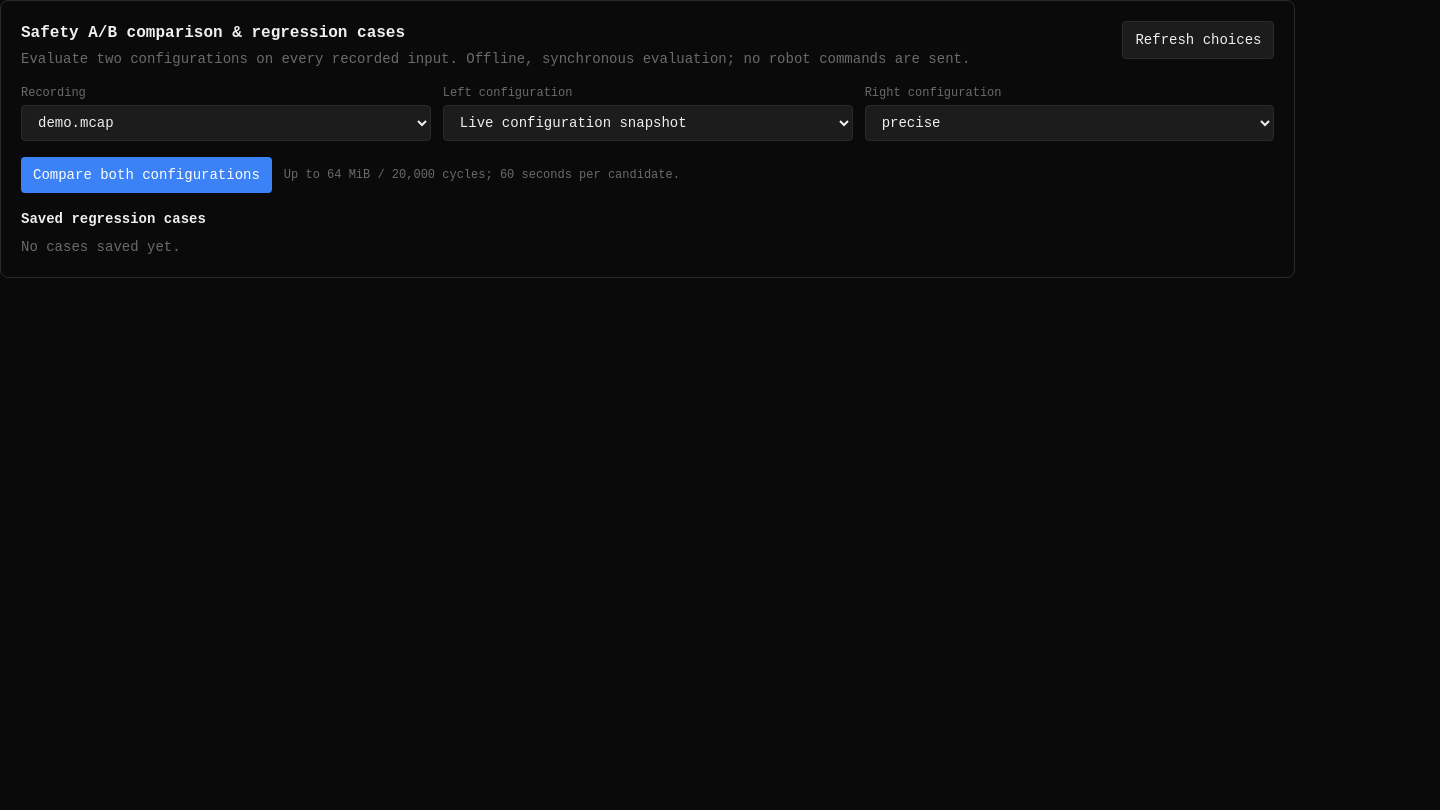
Test: disables saving ranges that include missing or unevaluated cycles
Step 1. Click the button "Compare both configurations" → click(146, 175), box [21,157,272,193]
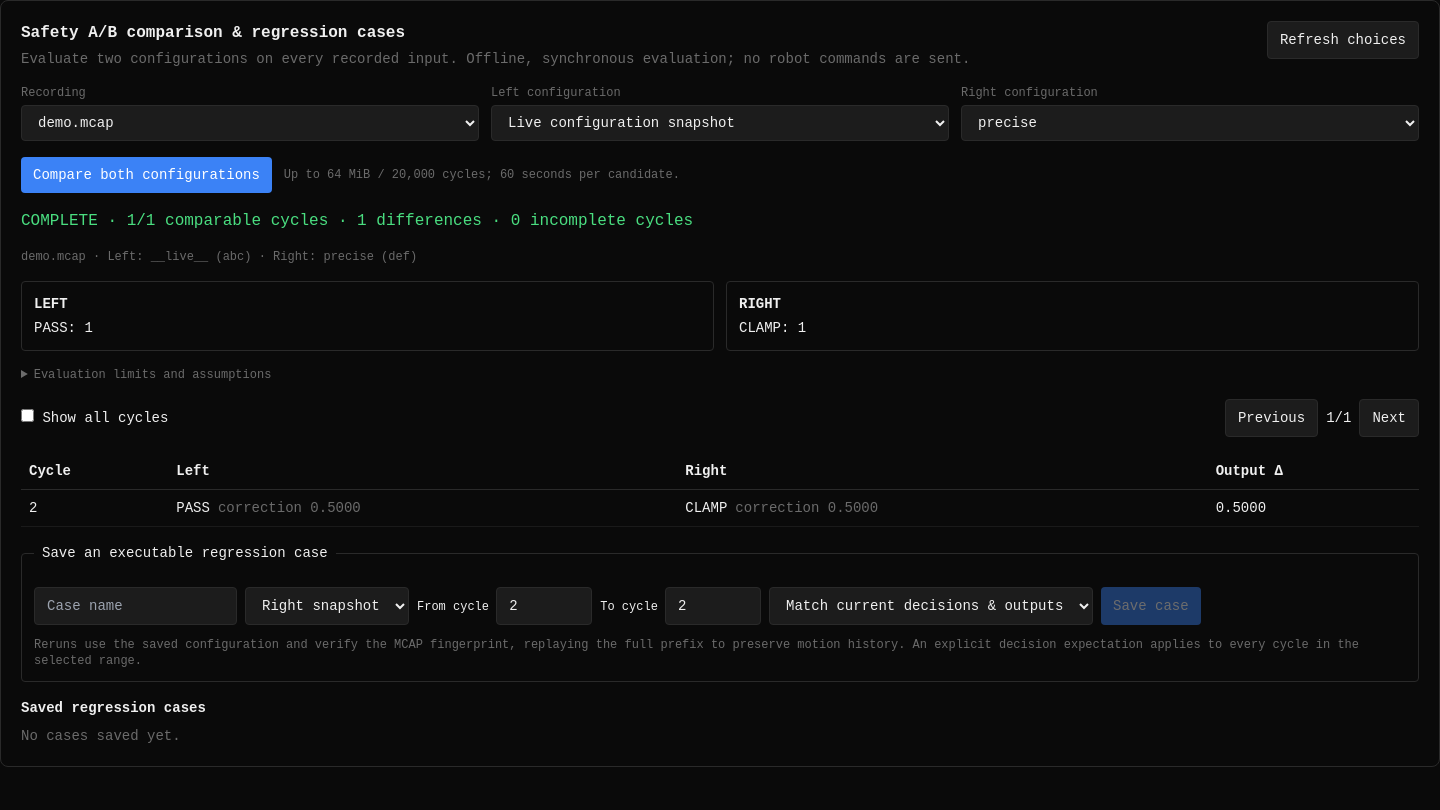
Expected: the text "COMPLETE · 1/1 comparable cycles · 1 differences · 0 incomplete cycles" is shown, [21,212,693,230]
Step 2. Type "Complete range" into the field named "Regression name" → (136, 606), box [34,587,237,625]
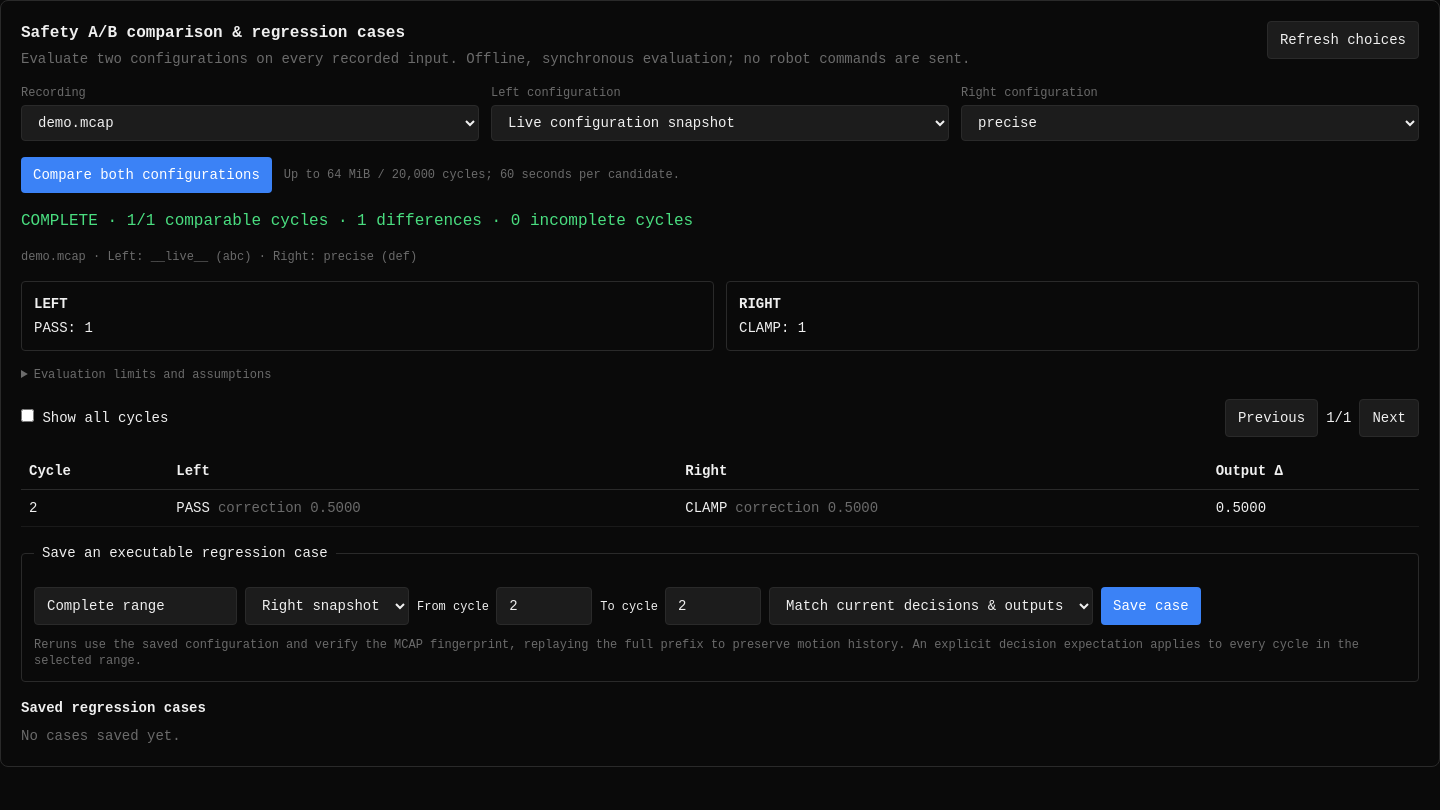
Expected: the button "Save case" is enabled, [1101,587,1201,625]
Step 3. Replace the text in the number field named "End cycle" with "3" → (713, 606), box [665,587,761,625]
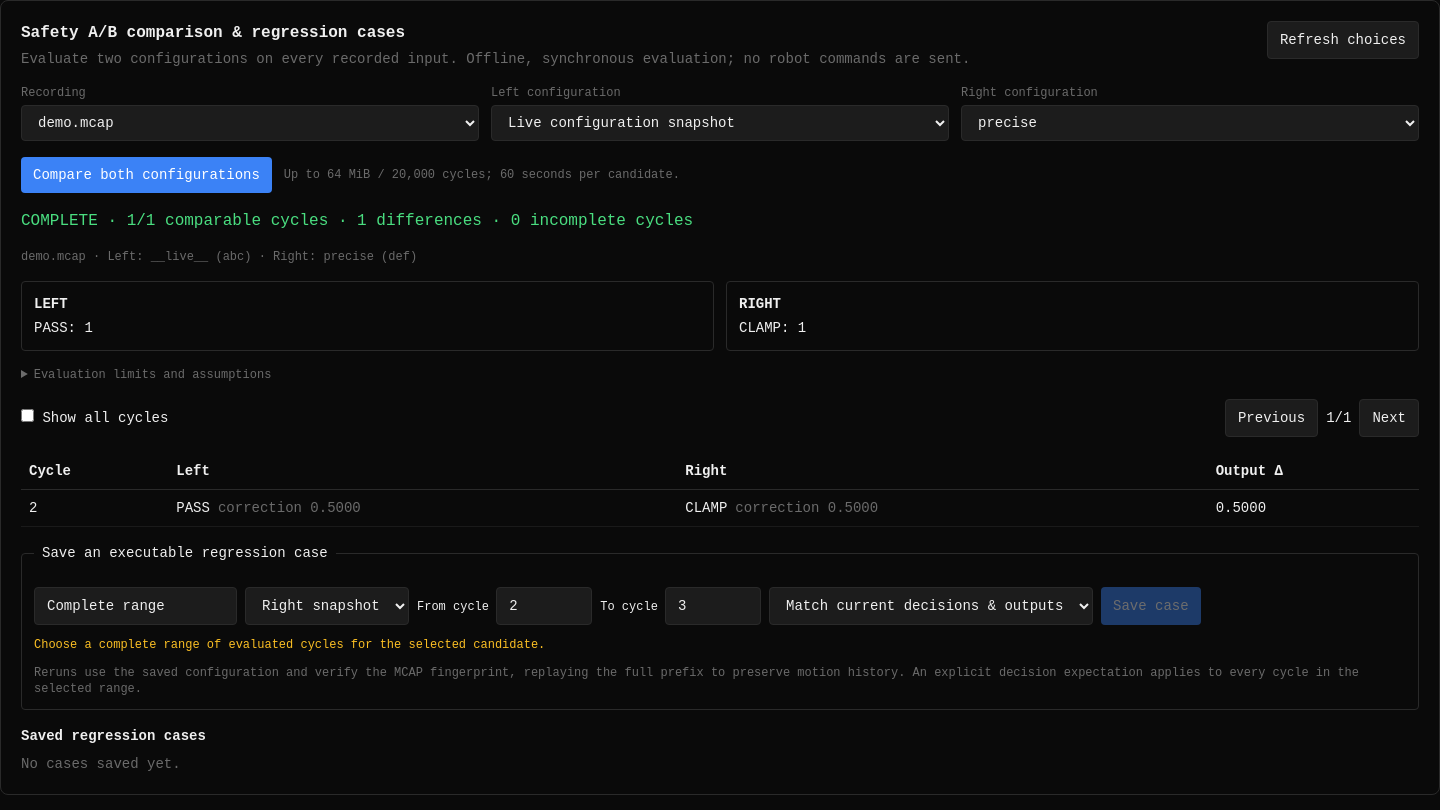
Expected: the button "Save case" is disabled, [1101,587,1201,625]
Expected: the text "Choose a complete range" is shown, [34,638,545,652]
Step 4. Replace the text in the number field named "End cycle" with "2" → (713, 606), box [665,587,761,625]
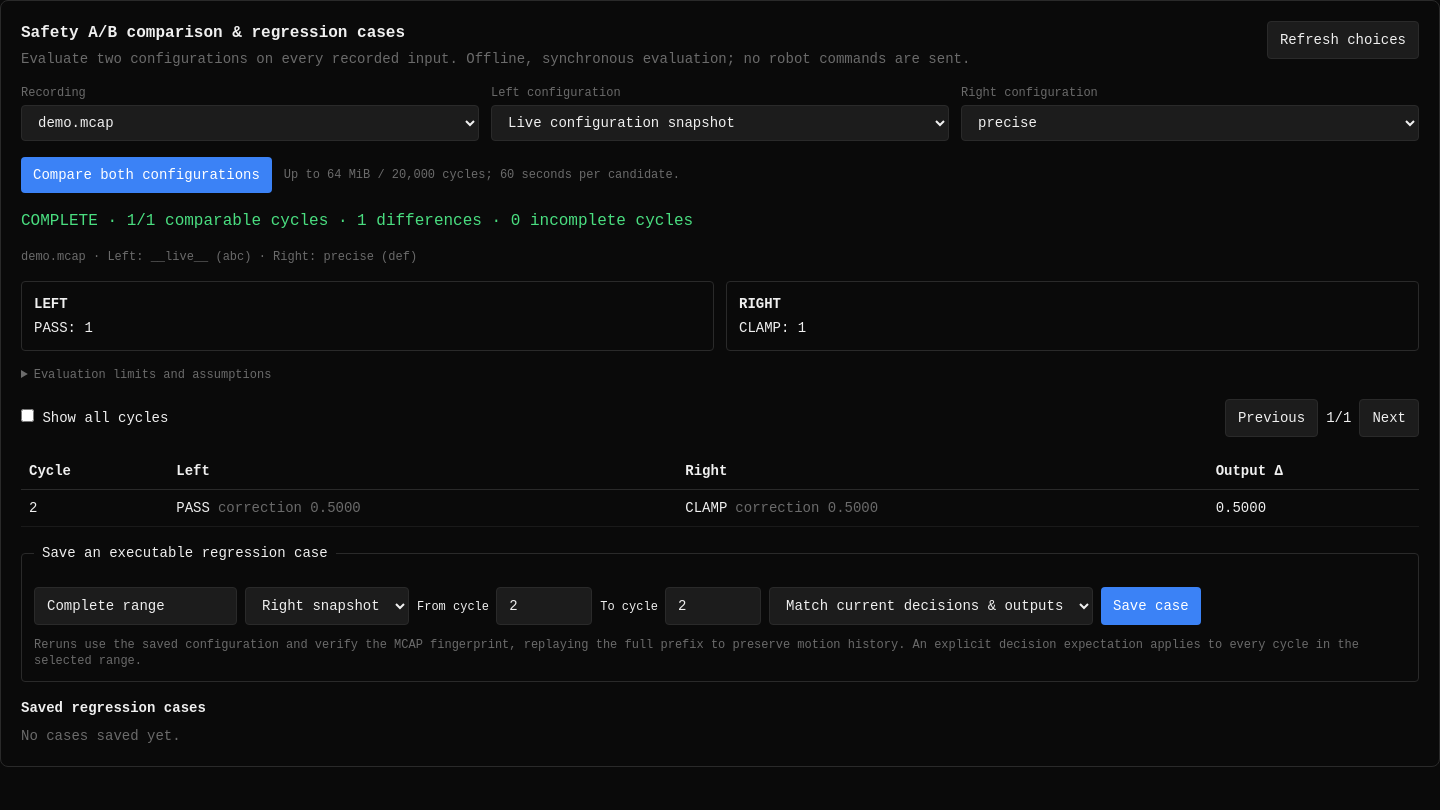
Expected: the button "Save case" is enabled, [1101,587,1201,625]
